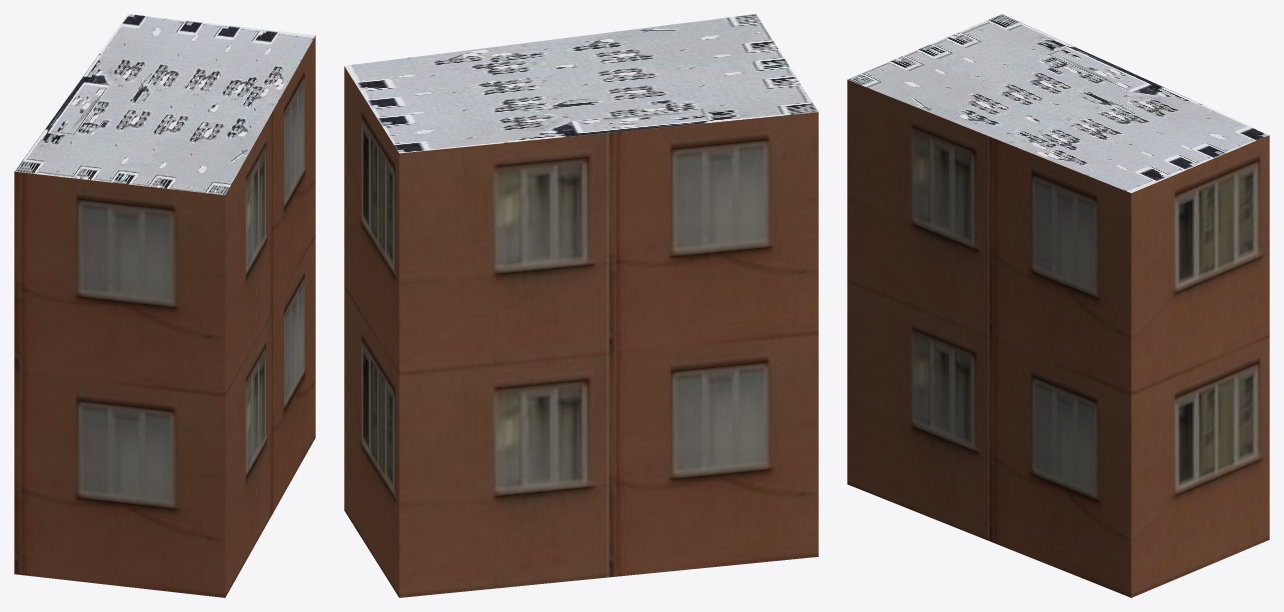
The model's file is ResTex__1399.fbx.
3 renders of one model, left to right at view 1: azimuth 30°, elevation 25°; view 2: azimuth 150°, elevation 25°; view 3: azimuth 270°, elevation 25°, orthographic. The views are drawn at different scales.
Parts seen in each view (by area): view 1: CityEngineMaterial_20_m, CityEngineMaterial_8_m; view 2: CityEngineMaterial_20_m, CityEngineMaterial_8_m; view 3: CityEngineMaterial_20_m, CityEngineMaterial_8_m.
Boxes of the visible parts, left/top/right/bottom form: CityEngineMaterial_20_m: left=14, top=35, right=315, bottom=597; CityEngineMaterial_8_m: left=14, top=14, right=315, bottom=195; CityEngineMaterial_20_m: left=344, top=66, right=818, bottom=597; CityEngineMaterial_8_m: left=344, top=14, right=818, bottom=153; CityEngineMaterial_20_m: left=847, top=80, right=1269, bottom=597; CityEngineMaterial_8_m: left=847, top=14, right=1269, bottom=193.
Bounding box in the file's own units: 5.7 × 6 × 5.68.
Materials: 2 (2 with a texture image).
